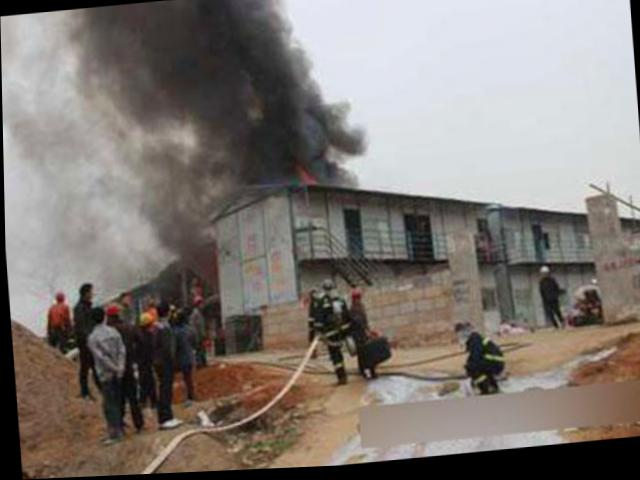smoke: (188, 94, 380, 193), (133, 0, 306, 104), (58, 5, 135, 132), (141, 171, 206, 279)
